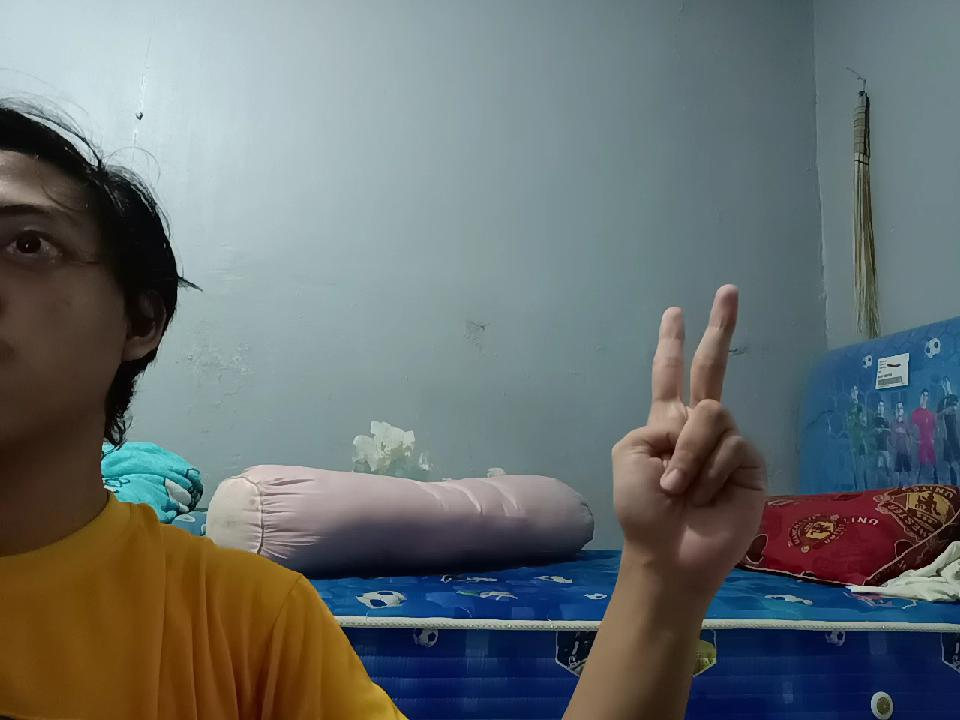scissors: (600, 269, 762, 575)
